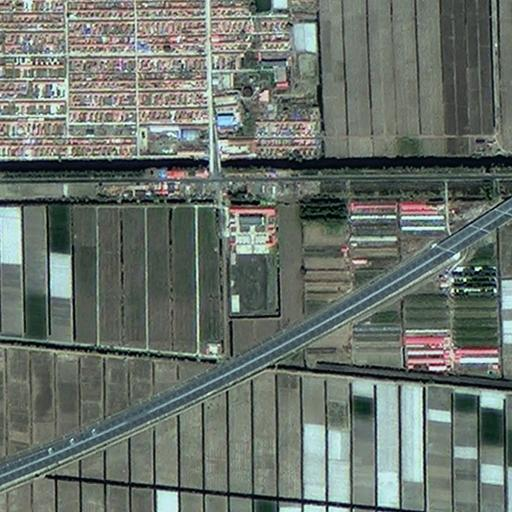school: (227, 204, 277, 320)
